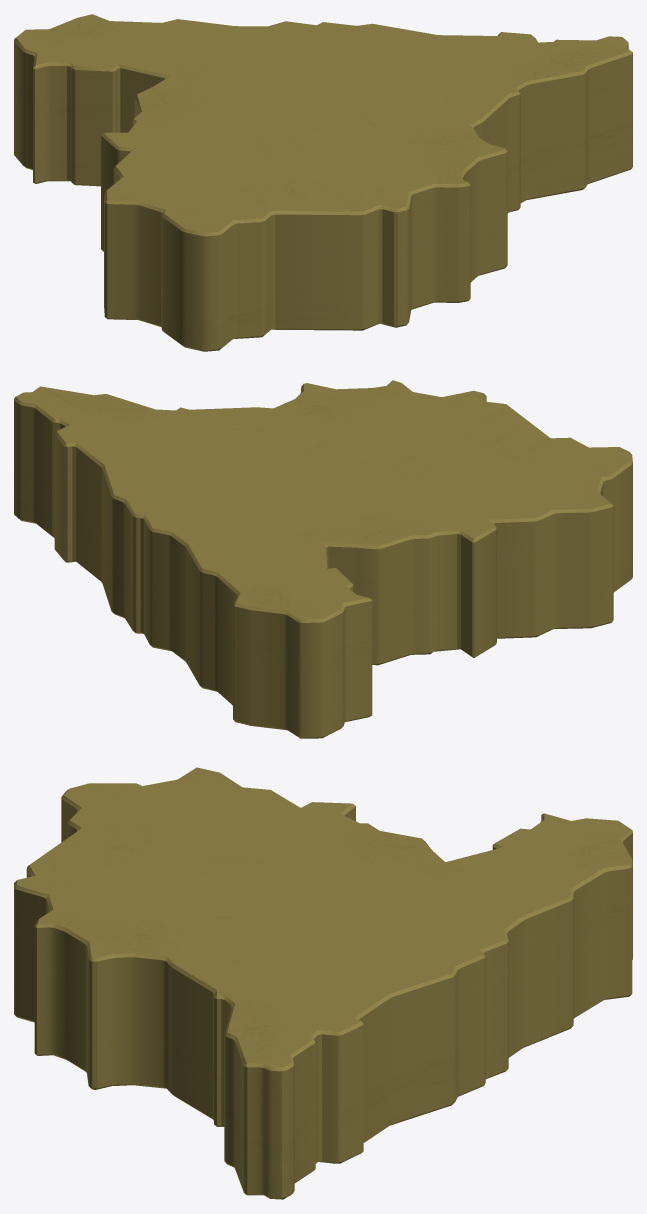
The model's file is spain.DAE.
The picture shows the model from 3 angles, top to bottom: view 1: azimuth 30°, elevation 25°; view 2: azimuth 150°, elevation 25°; view 3: azimuth 270°, elevation 25°; orthographic projection. The views are drawn at different scales.
Visible parts, largest first — view 1: Spain; view 2: Spain; view 3: Spain.
Part boxes in pixels (x1,y1,x2,y2): Spain: [14, 14, 632, 351]; Spain: [14, 380, 632, 738]; Spain: [14, 767, 632, 1199].
Size of the model in its own units: 123 by 106 by 25.
Materials: 1 (1 with a texture image).
